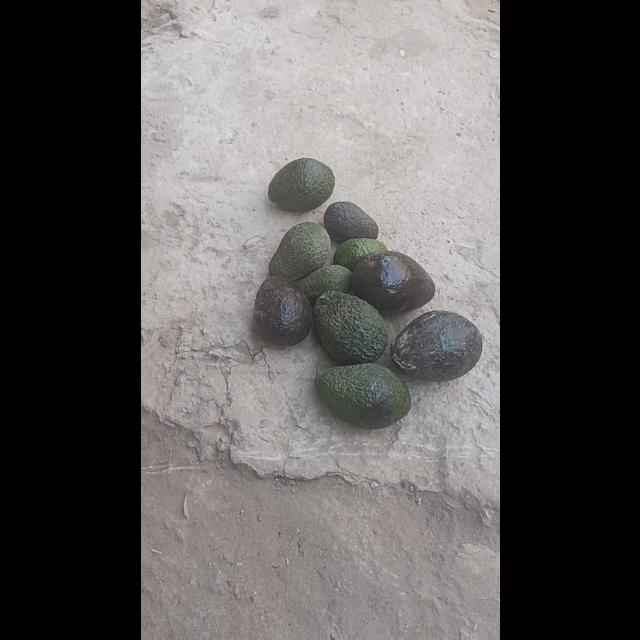Primera: (389, 309, 481, 381), (314, 362, 410, 428), (312, 290, 388, 364), (251, 275, 313, 345)
Segunda: (268, 222, 332, 280), (266, 158, 334, 212)
Tercera: (348, 250, 434, 316), (294, 263, 352, 307), (322, 202, 378, 242), (332, 236, 386, 272)
